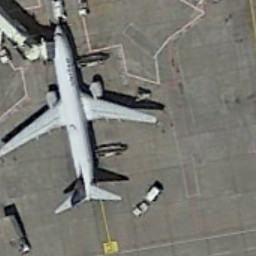Airplane: (1, 14, 163, 227)
